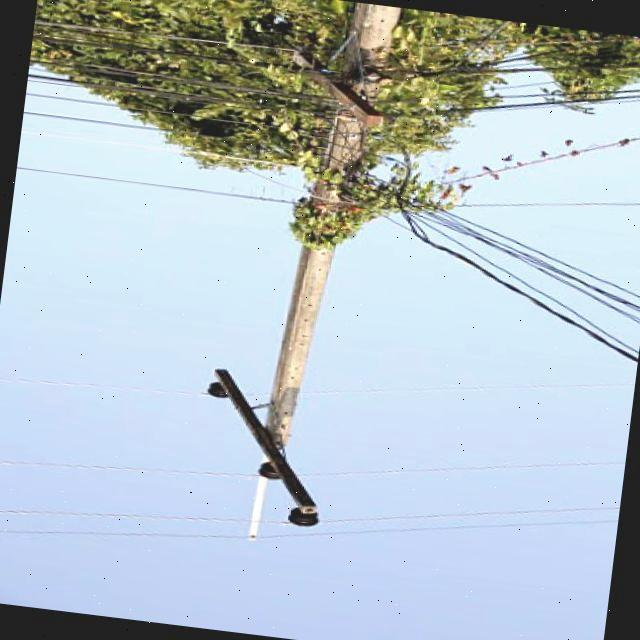critical vegetation: (275, 139, 376, 262)
